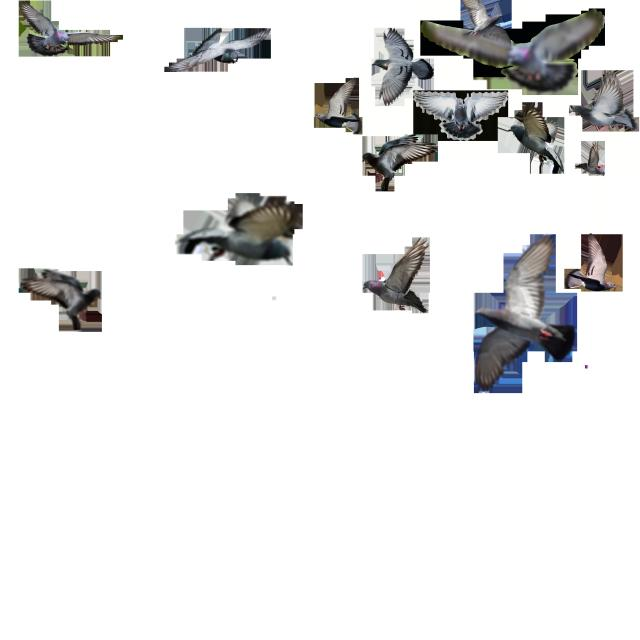bird: (424, 16, 617, 79), (483, 240, 561, 389), (176, 194, 299, 269), (12, 266, 104, 336), (16, 3, 126, 55), (364, 235, 432, 318), (410, 84, 504, 142), (162, 28, 269, 76), (507, 98, 563, 179), (378, 27, 433, 106), (363, 140, 441, 194), (568, 71, 633, 133), (572, 225, 622, 291), (308, 79, 362, 128), (454, 0, 502, 37), (574, 143, 607, 180)
